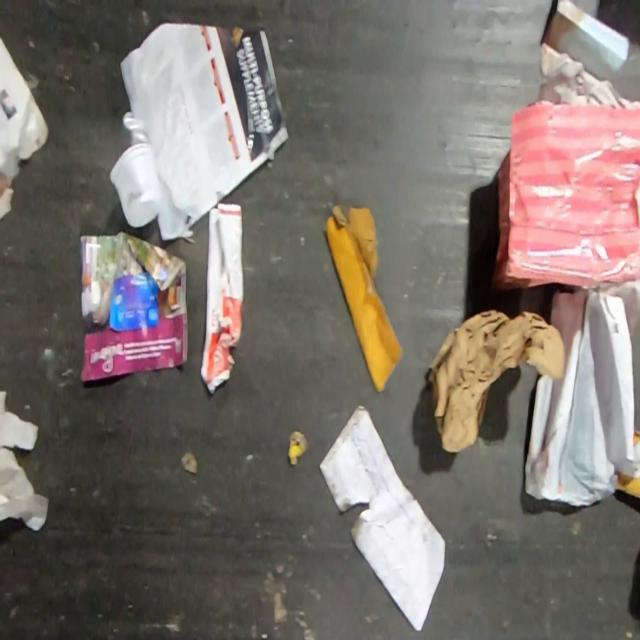cardboard: (318, 403, 448, 634), (541, 0, 631, 84), (613, 468, 640, 498), (633, 430, 640, 446)
rigid_plastic: (108, 110, 164, 228)
